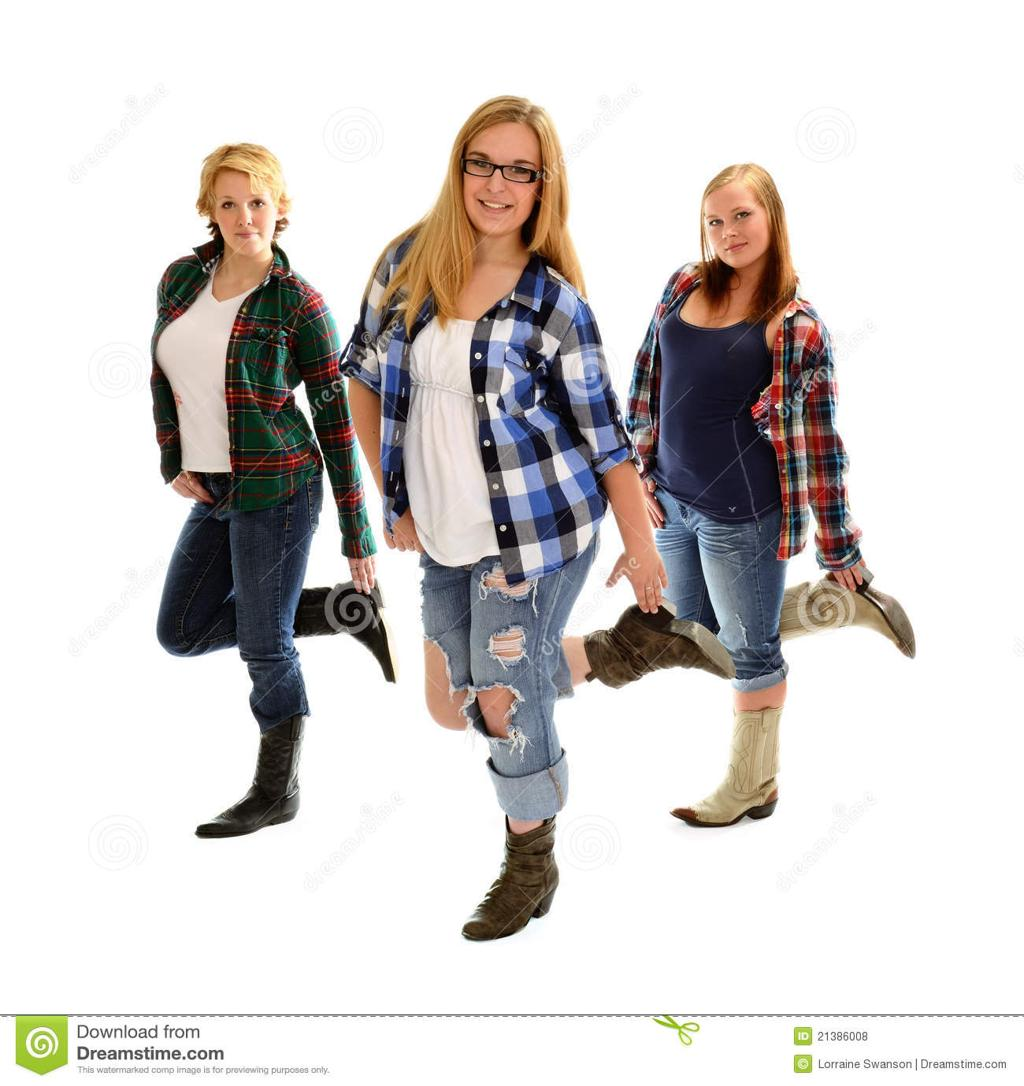face: (460, 117, 538, 238), (208, 151, 276, 255), (702, 187, 766, 263)
